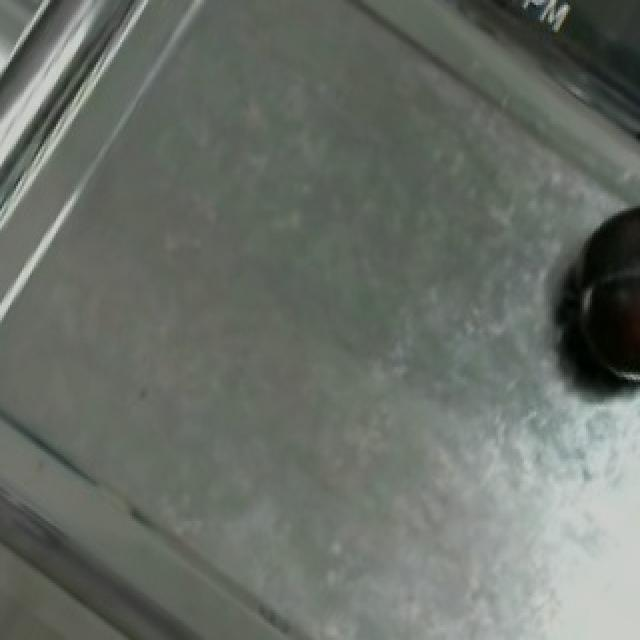Fruit: (552, 238, 640, 400)
